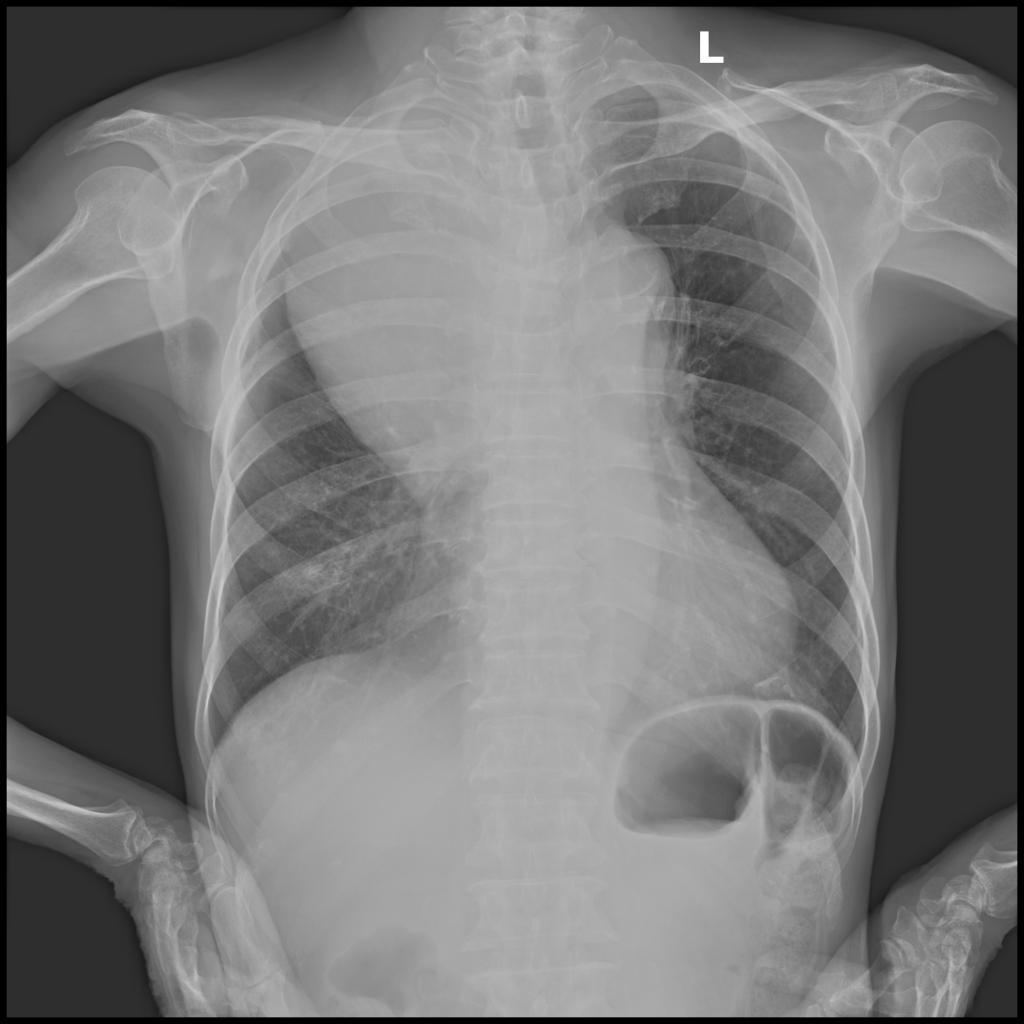Nodule: (283, 109, 494, 508)
